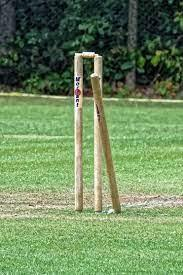stumps: (73, 50, 123, 216)
